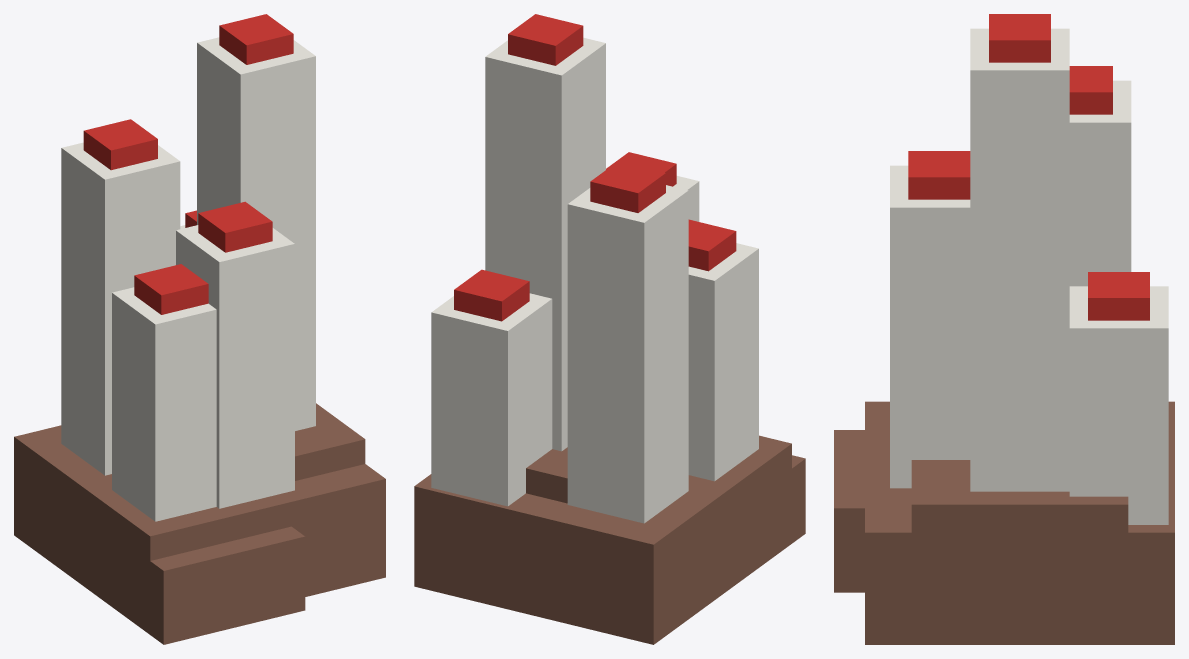
File: TubeCoral_Purple.obj
3 views of the same model, side by side, from view 1: azimuth 30°, elevation 25°; view 2: azimuth 150°, elevation 25°; view 3: azimuth 270°, elevation 25° (orthographic). The views are drawn at different scales.
Visible parts, largest first — view 1: TubeCoral_Purple; view 2: TubeCoral_Purple; view 3: TubeCoral_Purple.
Part boxes in pixels (x1,y1,x2,y2): TubeCoral_Purple: (14, 14, 385, 644); TubeCoral_Purple: (414, 14, 805, 644); TubeCoral_Purple: (834, 14, 1174, 644).
Bounding box in the file's own units: 5 × 10.4 × 5.5.
